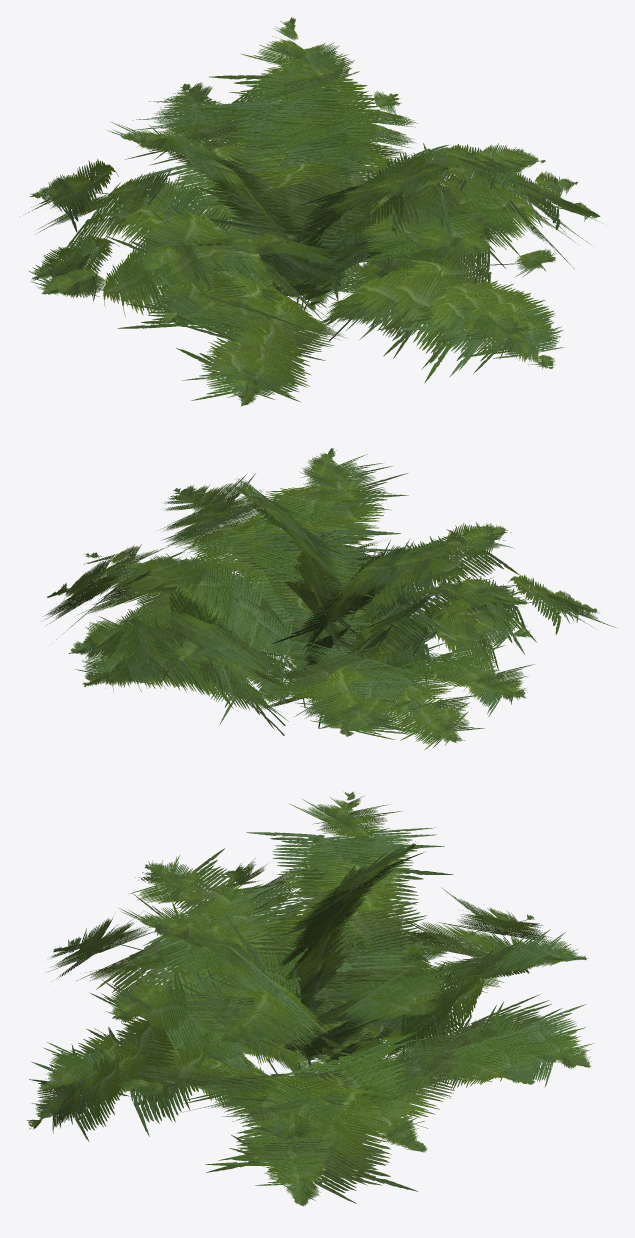
The model's file is fern_01_lod1.glb.
3 views of the same model, one above another, from view 1: azimuth 30°, elevation 25°; view 2: azimuth 150°, elevation 25°; view 3: azimuth 270°, elevation 25° (orthographic). The views are drawn at different scales.
Visible parts, largest first — view 1: AE_15TH_FERN_01_LOD1; view 2: AE_15TH_FERN_01_LOD1; view 3: AE_15TH_FERN_01_LOD1.
Part boxes in pixels (box(x1,y1,x2,y2)): AE_15TH_FERN_01_LOD1: box(20, 17, 602, 406); AE_15TH_FERN_01_LOD1: box(43, 448, 617, 749); AE_15TH_FERN_01_LOD1: box(26, 791, 594, 1206).
Bounding box in the file's own units: 0.7465 × 0.371 × 0.69.
4 materials, 4 textured.
